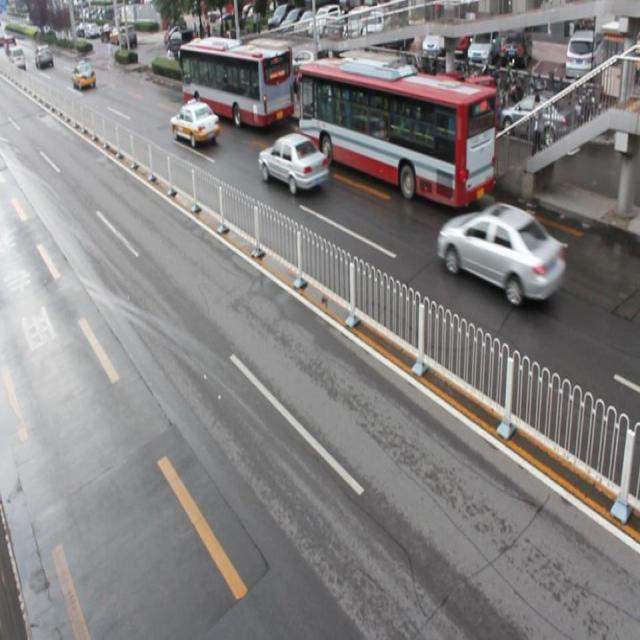car: (437, 199, 564, 306), (258, 132, 327, 196), (170, 98, 218, 146)
van: (300, 54, 495, 210), (181, 36, 294, 128)
